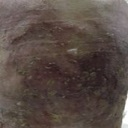Dystrophic Bullosa: (27, 50, 114, 98)
